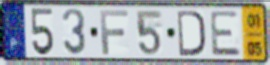3: (61, 8, 87, 58)
5: (135, 9, 165, 57), (30, 7, 55, 57)
D: (176, 8, 207, 58)
E: (208, 10, 243, 58)
F: (99, 9, 131, 57)
